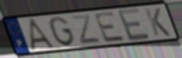A: (28, 17, 59, 51)
E: (116, 7, 153, 43), (92, 10, 128, 44)
G: (48, 16, 77, 47)
K: (144, 7, 173, 38)
Z: (69, 14, 103, 46)
